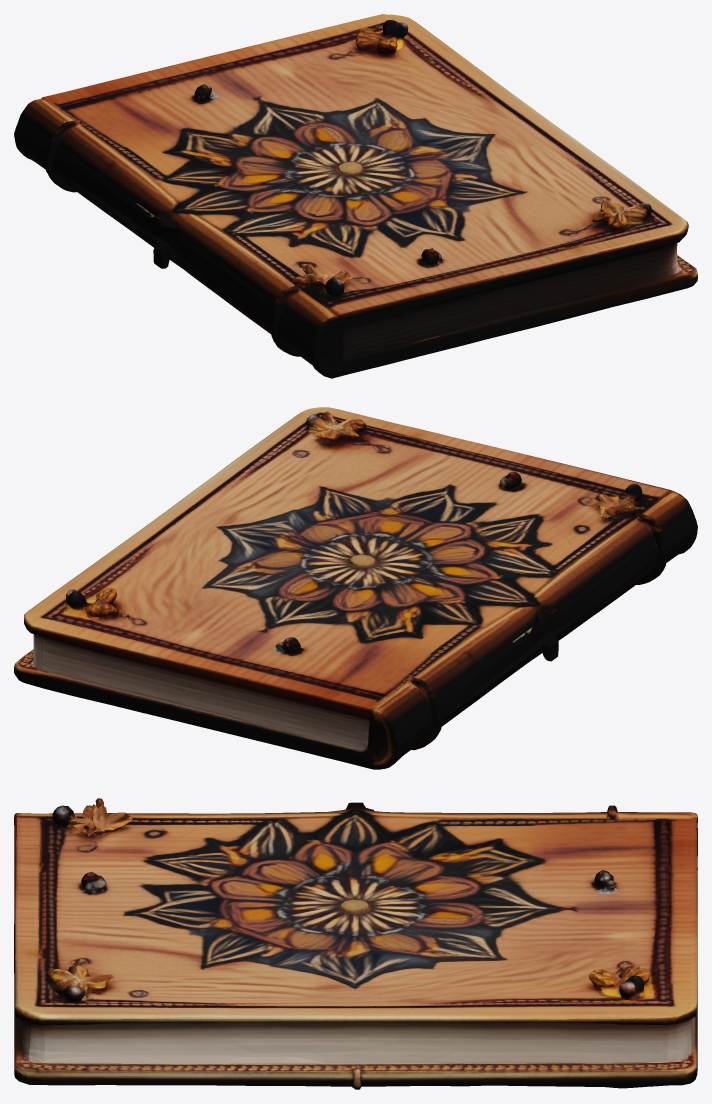
File: wooden-journal-cover-rustic.jpeg.glb
The picture shows the model from 3 angles, top to bottom: view 1: azimuth 30°, elevation 25°; view 2: azimuth 150°, elevation 25°; view 3: azimuth 270°, elevation 25°; orthographic projection. The views are drawn at different scales.
Visible parts, largest first — view 1: world; view 2: world; view 3: world.
Part boxes in pixels (x1,y1,x2,y2): world: [14, 14, 697, 378]; world: [14, 407, 697, 769]; world: [14, 798, 697, 1089].
Bounding box in the file's own units: 0.7711 × 0.1584 × 1.
Materials: 1 (1 with a texture image).
